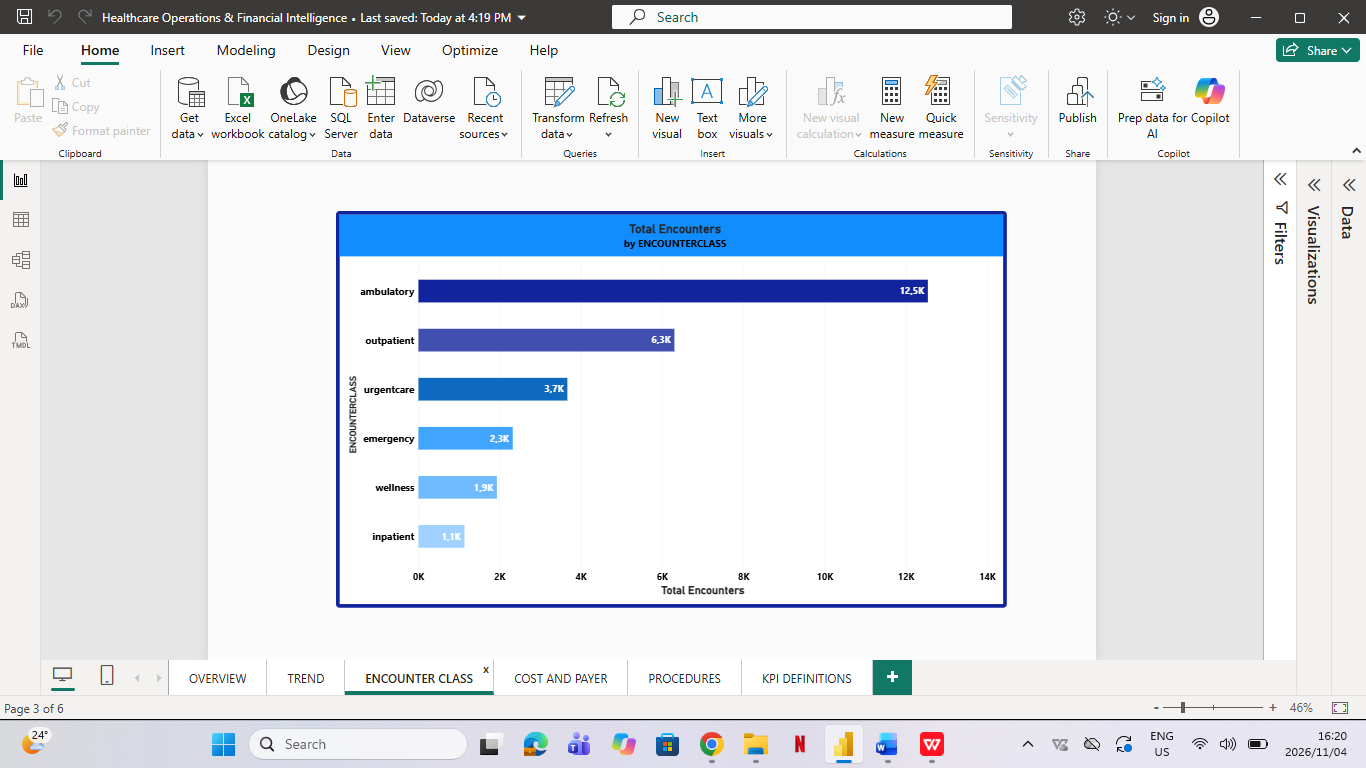

Layout of this report page (visuals, bound fields, positions):
{"tool":"powerbi","page":{"name":"ENCOUNTER CLASS","canvas":[1920,1080],"ordinal":2},"visuals":[{"type":"clusteredBarChart","fields":{"Category":["encounters.ENCOUNTERCLASS"],"Y":["encounters.Total Encounters"]},"box":[277.2,110.9,1448.8,856.7],"z":0}]}

Visuals, with their boxes on the page's 1920x1080 design canvas (x1, y1, x2, y2). These are canvas units, not pixel positions in the 1366x768 screenshot, which may show the page scaled, cropped or inside an application window:
clusteredBarChart - encounters.ENCOUNTERCLASS x encounters.Total Encounters: 277/111/1726/968
